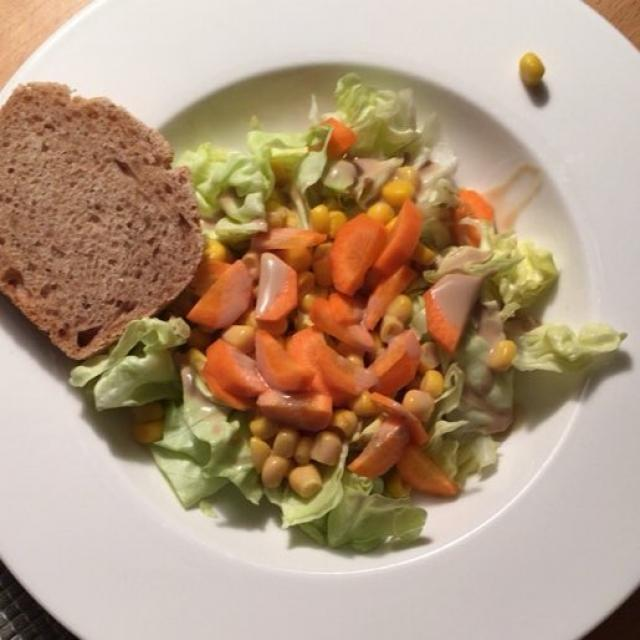bread: (2, 72, 203, 361)
carrot: (190, 193, 514, 497)
corn: (238, 390, 382, 505)
salad: (72, 53, 626, 556)
